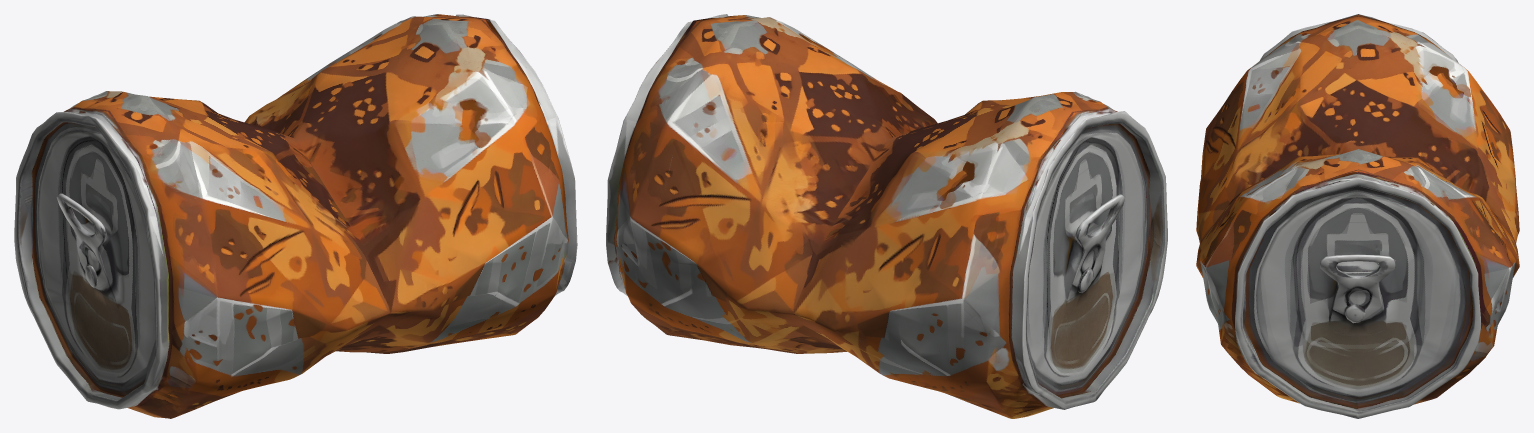
The model's file is trash_small_3.glb.
The picture shows the model from 3 angles, left to right: view 1: azimuth 30°, elevation 25°; view 2: azimuth 150°, elevation 25°; view 3: azimuth 270°, elevation 25°; orthographic projection. The views are drawn at different scales.
Bounding box in the file's own units: 1.91 × 1.28 × 1.44.
Materials: 1 (1 with a texture image).
